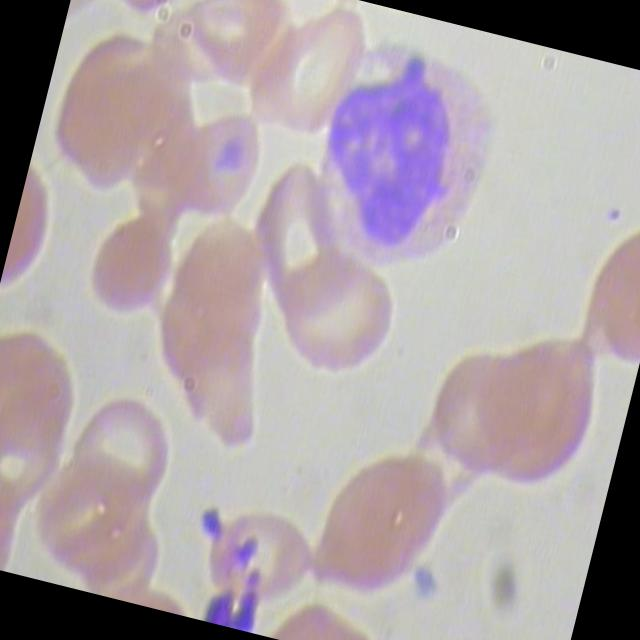Platelets: (401, 558, 446, 612), (190, 500, 228, 546)
RBC: (297, 428, 463, 620), (457, 324, 622, 516), (272, 248, 406, 388), (57, 384, 183, 520), (258, 0, 375, 146), (188, 500, 322, 622), (158, 99, 272, 238), (0, 317, 88, 471), (166, 0, 293, 106), (78, 206, 188, 328)
WBC: (282, 31, 532, 302)
